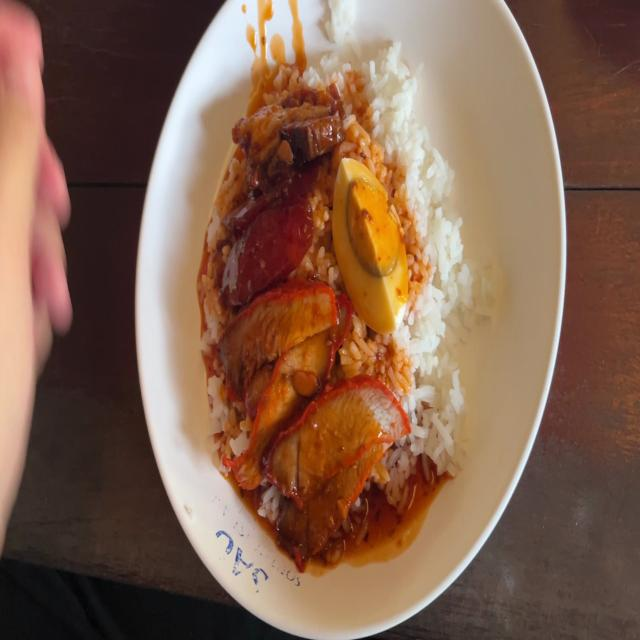red_pork_and_crispy_pork: (342, 161, 404, 327)
stir_fried_basil: (226, 174, 318, 279)
